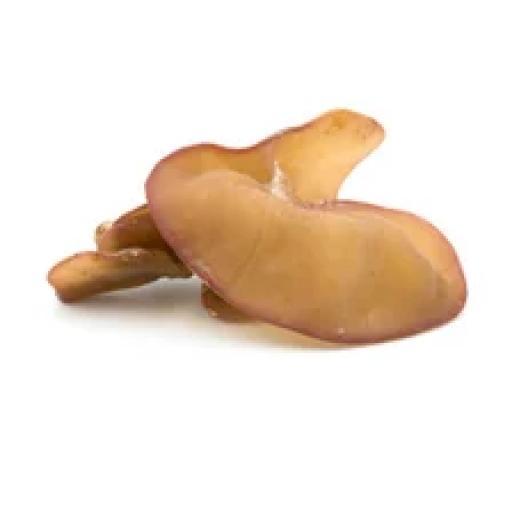Wood Ear Mushroom: (33, 83, 483, 369)
